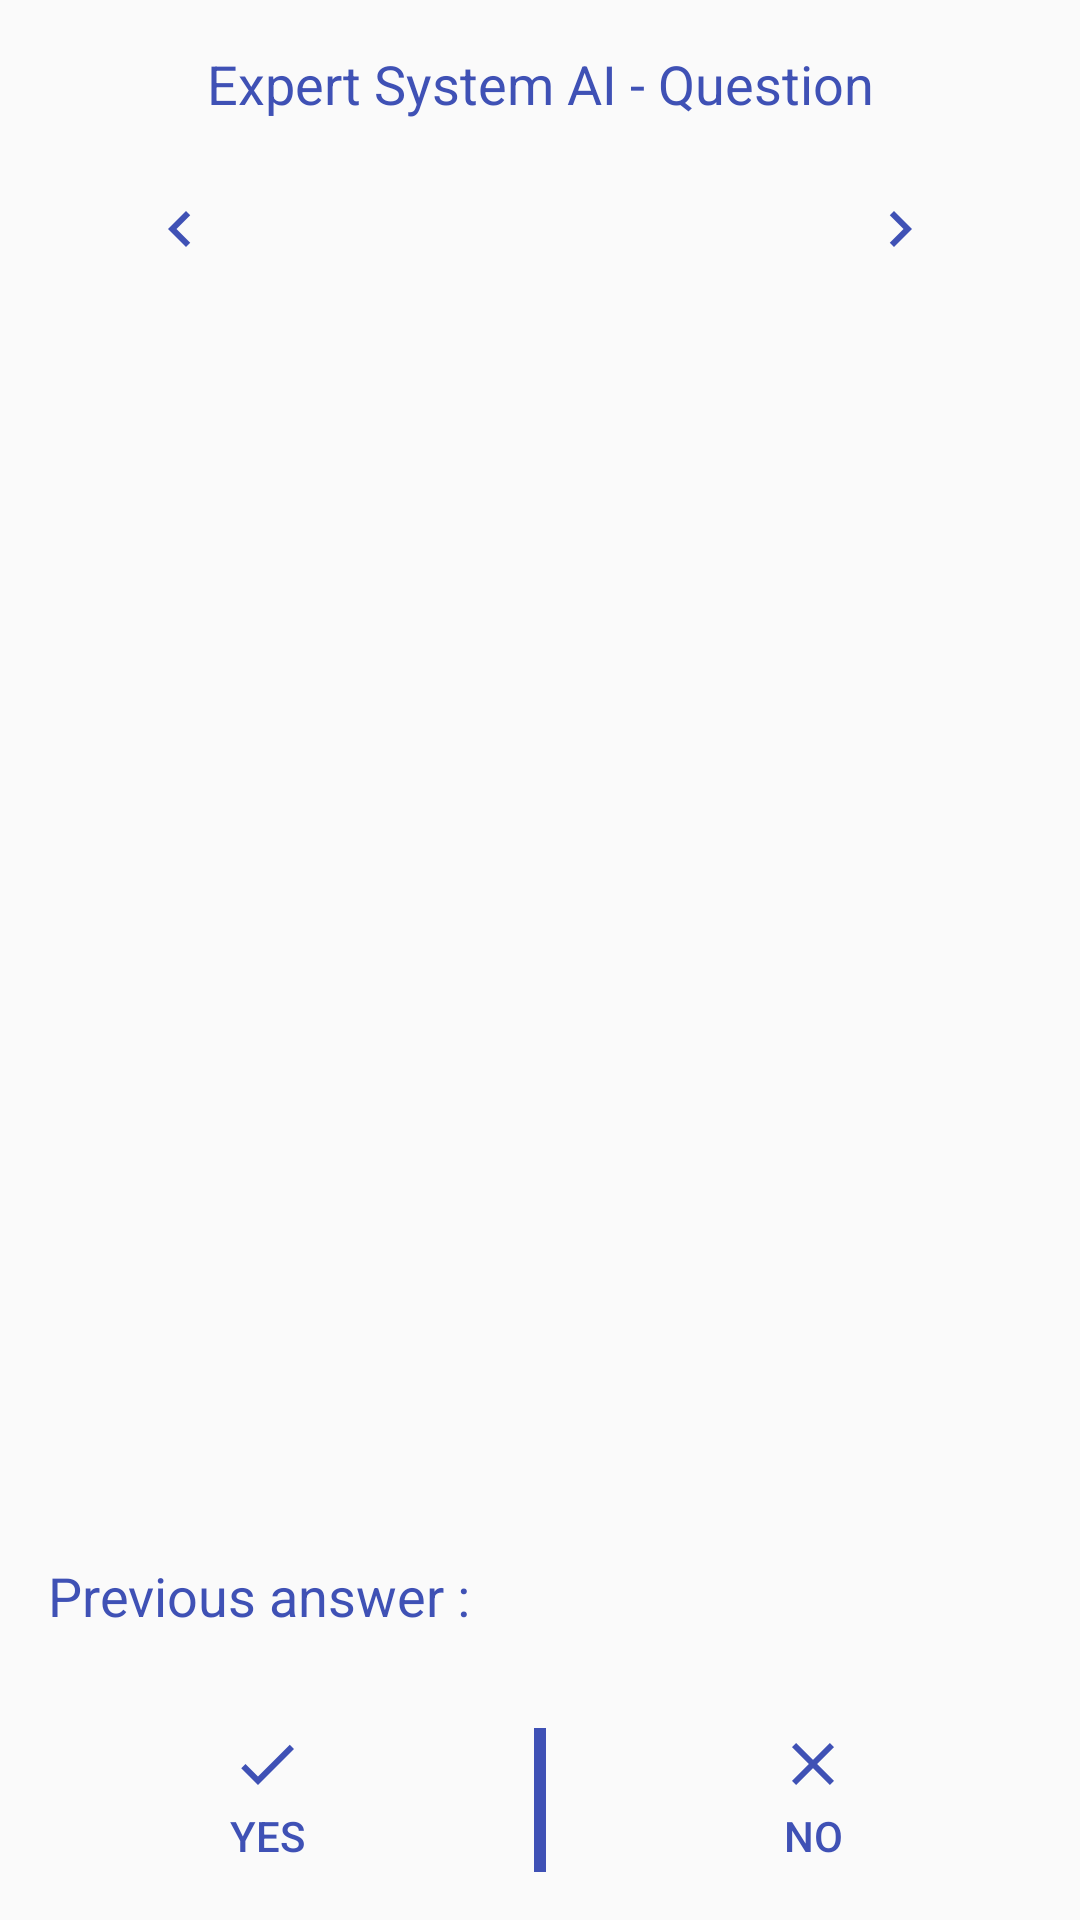

Named icons in this screenshot (1080 × 1920) and their bounding boxes, (x1, y1, x2, y2):
Back Image Button: (168, 211, 190, 247)
Forward Image Button: (890, 211, 912, 247)
